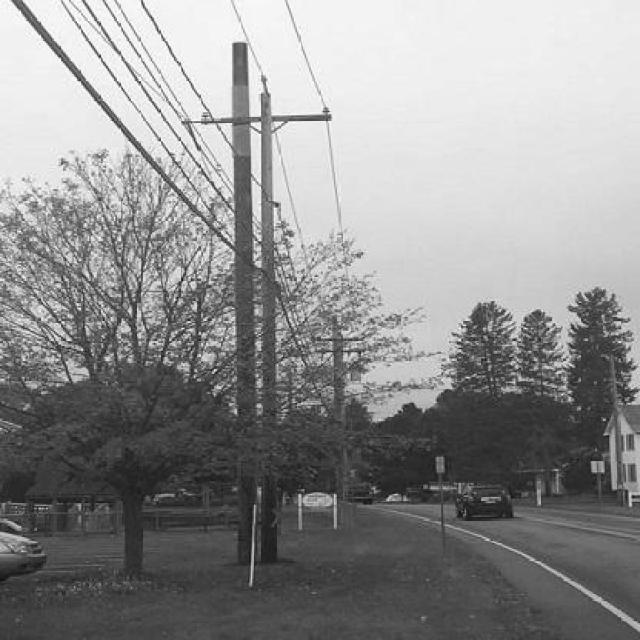Pole: (235, 42, 258, 564), (259, 75, 279, 563)
